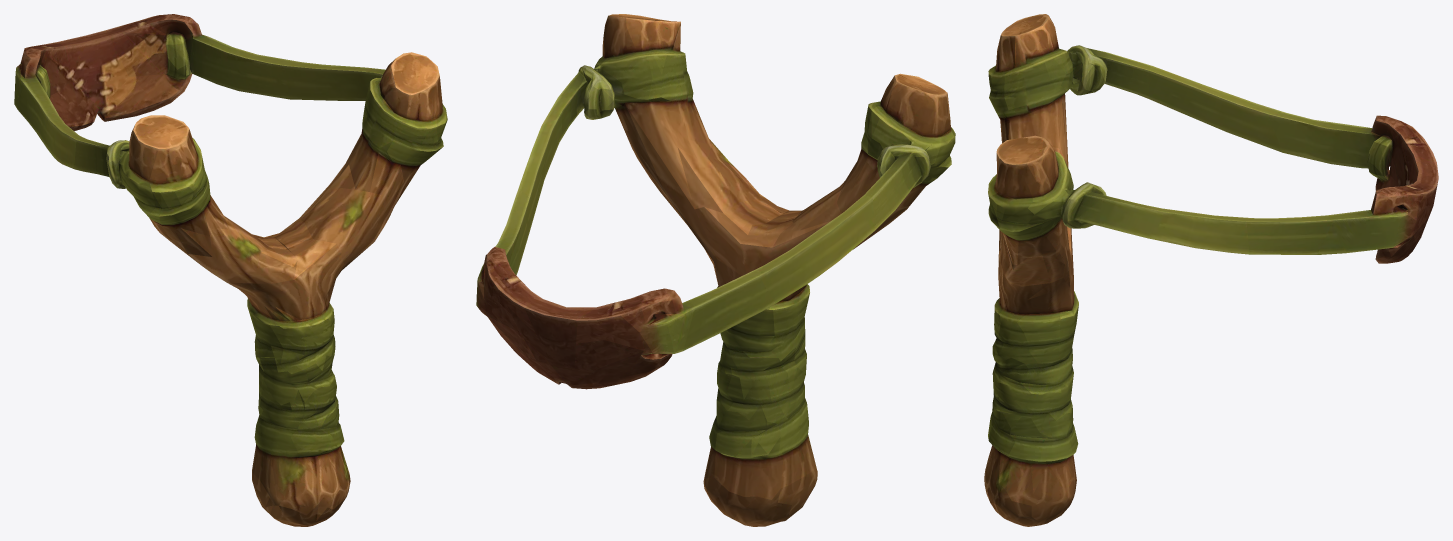
Rendered from gremlin-slingshot.hq.glb.
3 renders of one model, left to right at view 1: azimuth 30°, elevation 25°; view 2: azimuth 150°, elevation 25°; view 3: azimuth 270°, elevation 25°, orthographic. The views are drawn at different scales.
Parts seen in each view (by area): view 1: output_unwrapped; view 2: output_unwrapped; view 3: output_unwrapped.
Boxes of the visible parts, x1,y1,x2,y2 form: output_unwrapped: (14,14,447,526); output_unwrapped: (476,14,955,526); output_unwrapped: (984,14,1438,526).
Size of the model in its own units: 1.44 by 1.9 by 1.81.
Materials: 1 (1 with a texture image).
